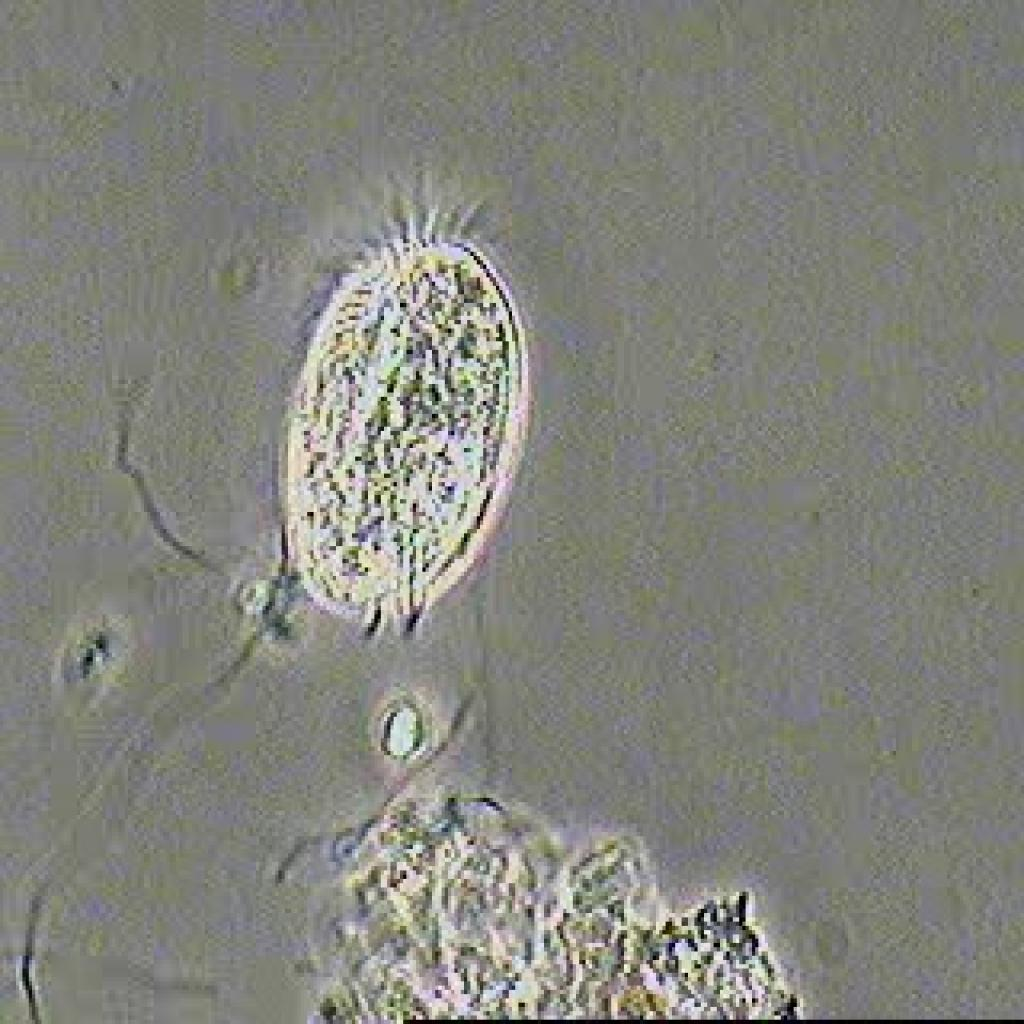Chilodonella: (266, 166, 534, 666)
